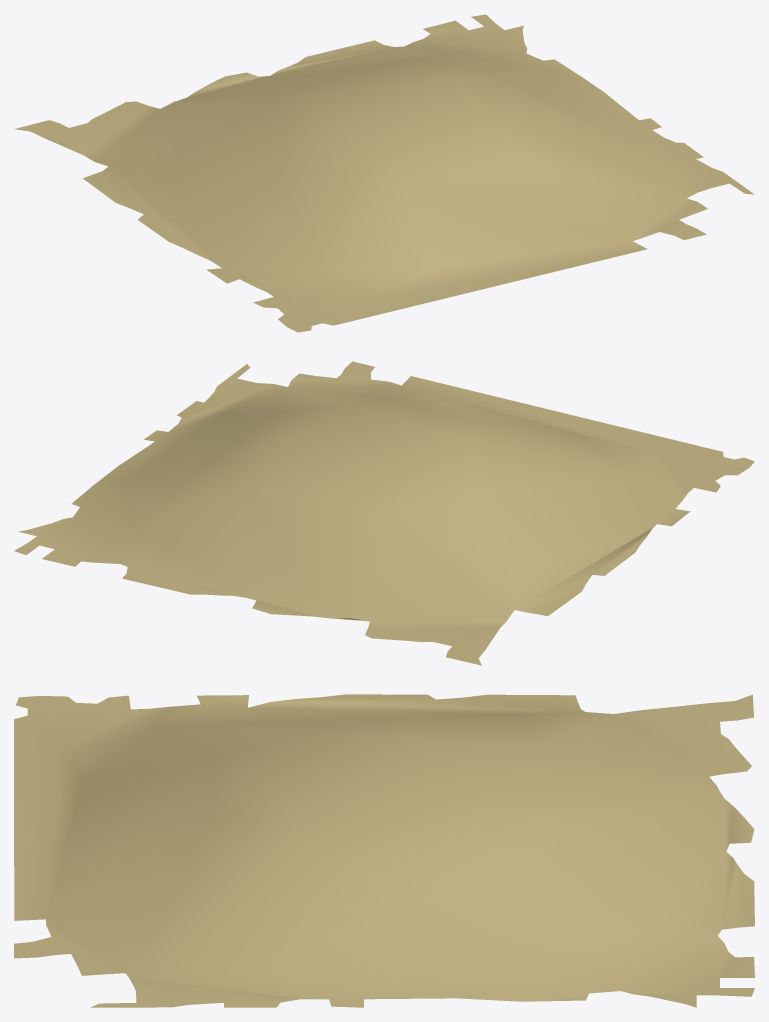
Rendered from island.glb.
3 renders of one model, top to bottom at view 1: azimuth 30°, elevation 25°; view 2: azimuth 150°, elevation 25°; view 3: azimuth 270°, elevation 25°, orthographic. The views are drawn at different scales.
Parts seen in each view (by area): view 1: Landscape; view 2: Landscape; view 3: Landscape.
Part boxes in pixels (x1=…): Landscape: x1=14, y1=14, x2=754, y2=332; Landscape: x1=14, y1=361, x2=754, y2=665; Landscape: x1=14, y1=694, x2=754, y2=1007.
Bounding box in the file's own units: 2 × 0.2426 × 2.
